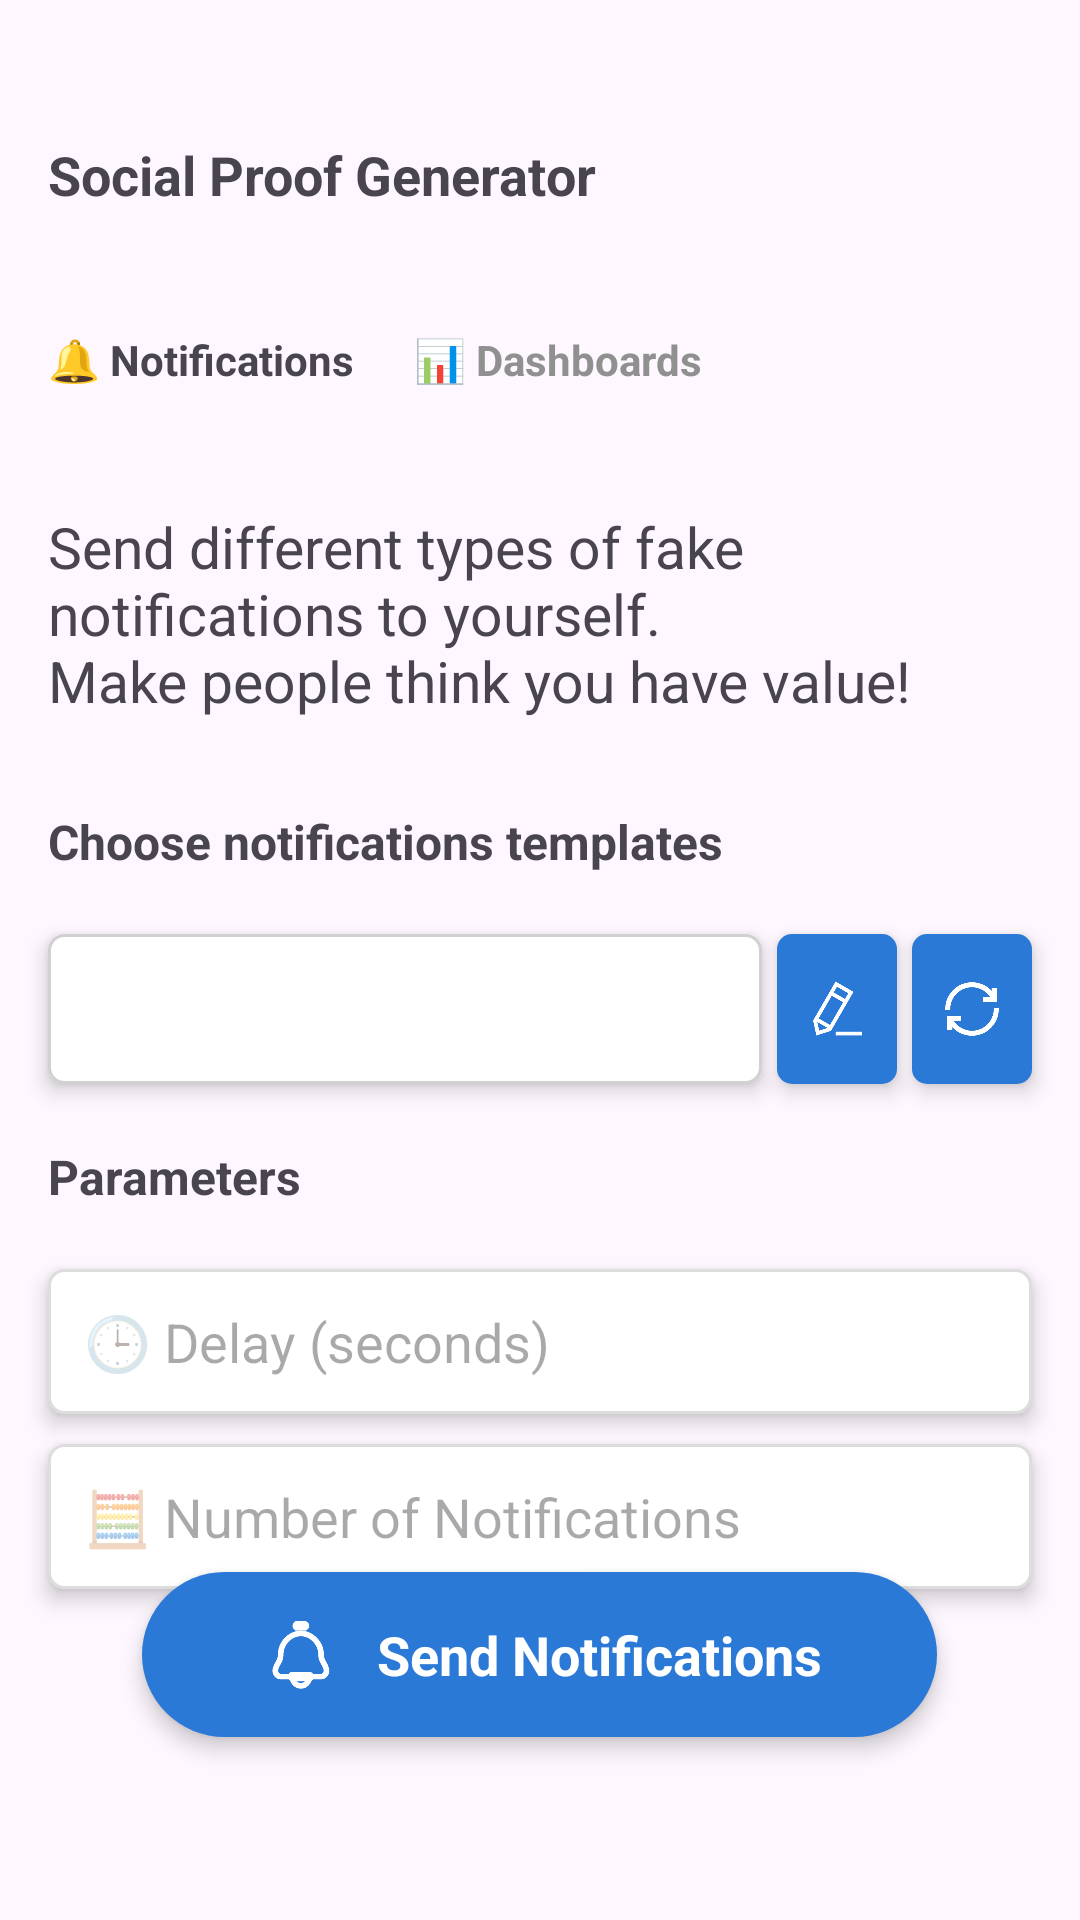

Icons on this 1080x1920 Android screen, each with the point to tap as [x,y]:
notifon: [301,1655]
refresh: [972,1009]
